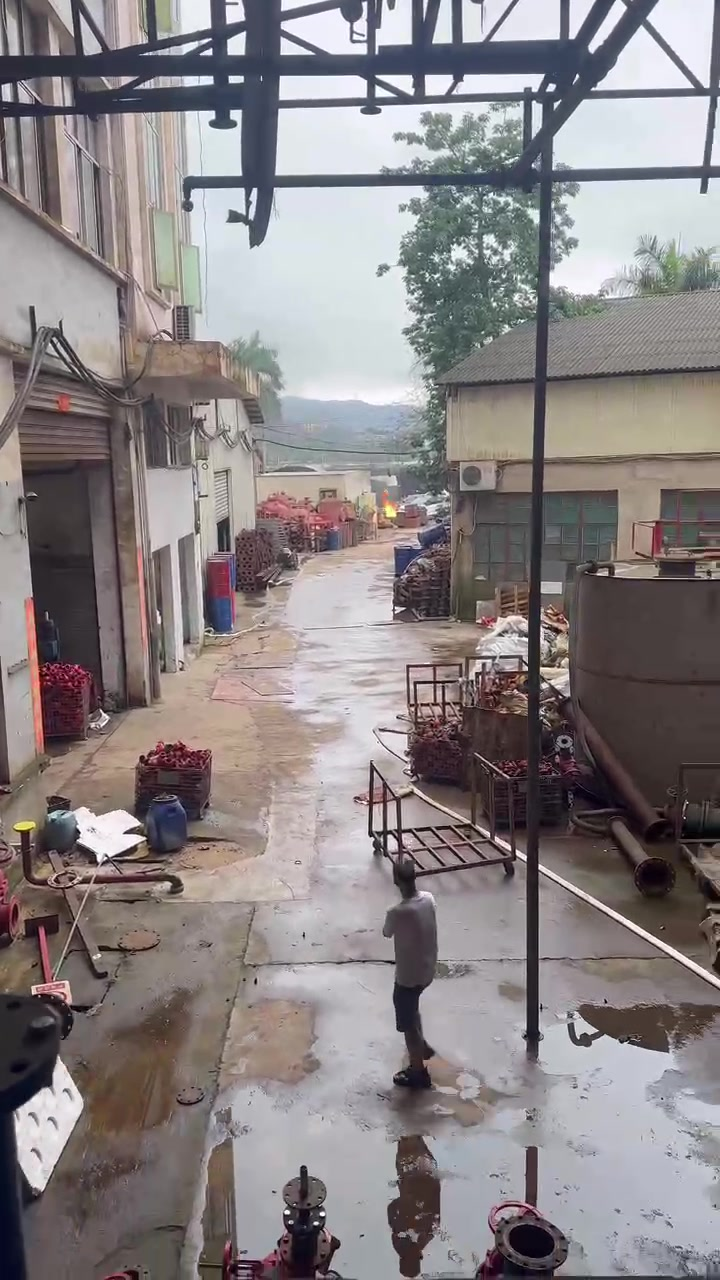fire: (383, 491, 396, 517)
